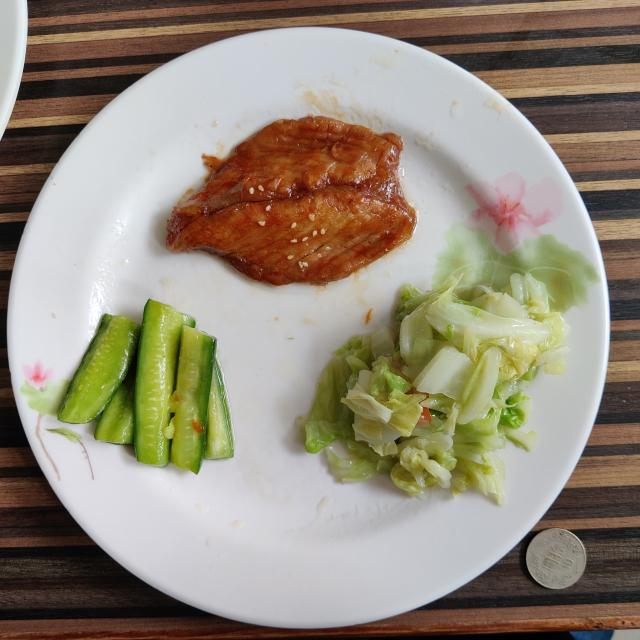Kabayaki sea bream fillet: (166, 116, 416, 285)
coin: (526, 529, 586, 589)
cucumber: (304, 274, 569, 505), (58, 300, 234, 474)
